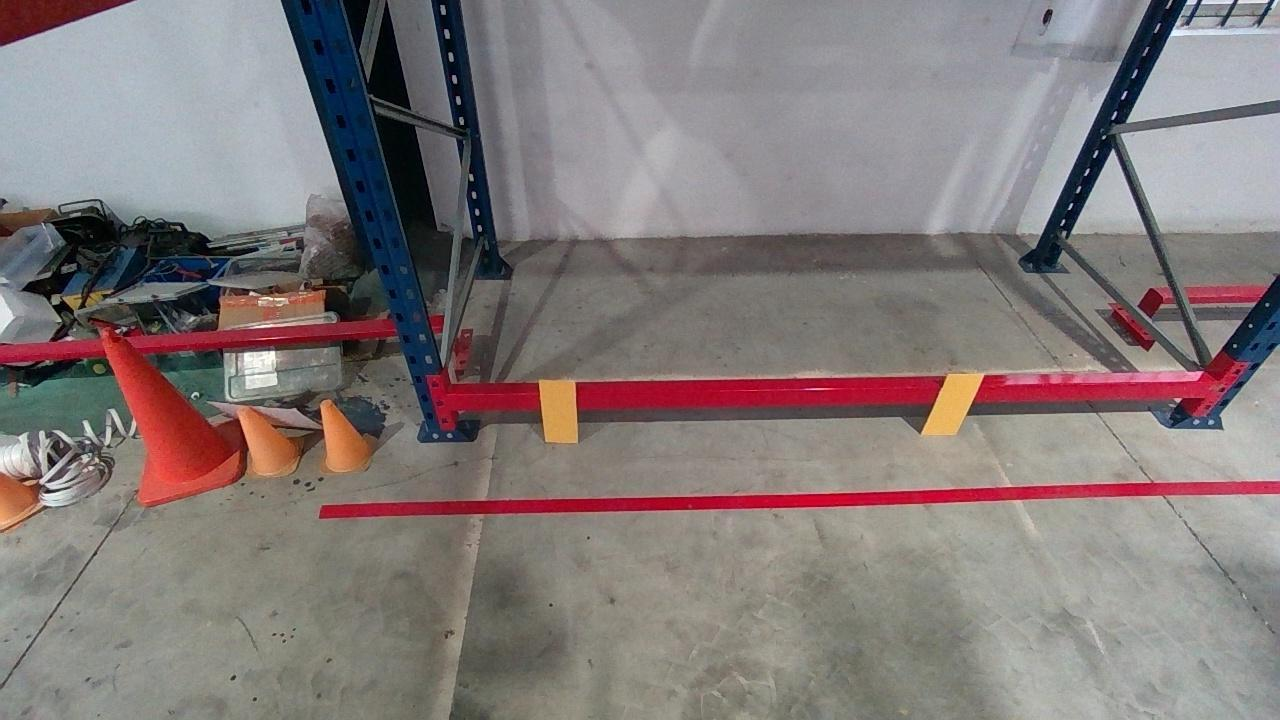h_rack: (454, 381, 1208, 410)
orange_strip: (918, 371, 988, 433), (537, 381, 579, 442)
red_line: (321, 479, 1279, 516)
